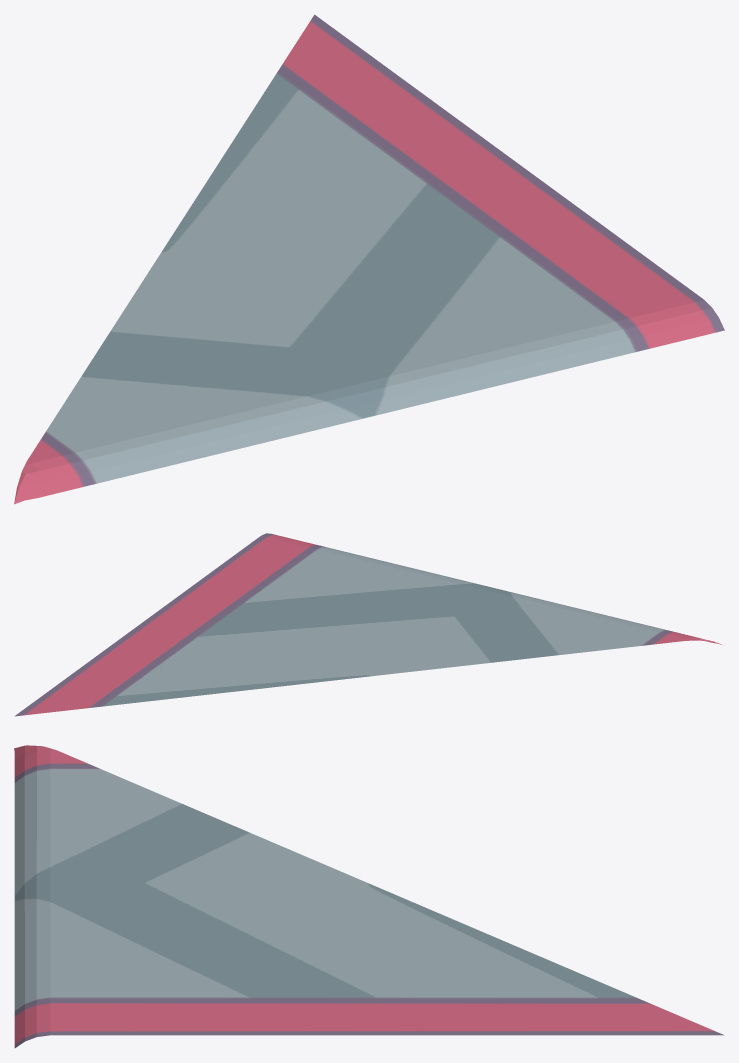
Rendered from beltBR.gltf.
The picture shows the model from 3 angles, top to bottom: view 1: azimuth 30°, elevation 25°; view 2: azimuth 150°, elevation 25°; view 3: azimuth 270°, elevation 25°; orthographic projection. The views are drawn at different scales.
Visible parts, largest first — view 1: Plane; view 2: Plane; view 3: Plane.
Part boxes in pixels (x1=…): Plane: x1=14, y1=14, x2=724, y2=504; Plane: x1=14, y1=533, x2=722, y2=716; Plane: x1=14, y1=745, x2=724, y2=1048.
Bounding box in the file's own units: 1.96 × 0.0433 × 1.96.
Materials: 1 (1 with a texture image).
